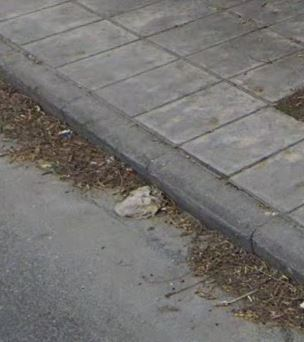trash: (110, 173, 172, 233)
